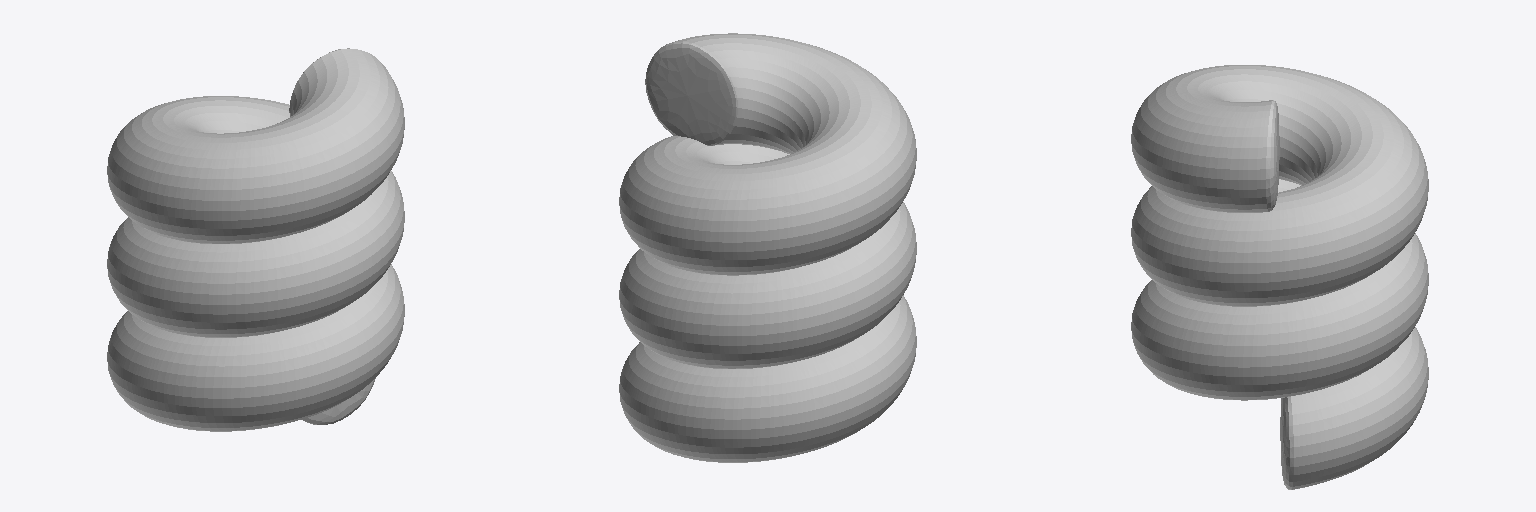
Rendered from helix_25.0.obj.
The picture shows the model from 3 angles: view 1: azimuth 30°, elevation 25°; view 2: azimuth 150°, elevation 25°; view 3: azimuth 270°, elevation 25°; orthographic projection.
Parts seen in each view (by area): view 1: helix:pHelix1; view 2: helix:pHelix1; view 3: helix:pHelix1.
Boxes of the visible parts, <box> form: helix:pHelix1: <box>107,48,404,431</box>; helix:pHelix1: <box>619,33,916,462</box>; helix:pHelix1: <box>1131,65,1428,489</box>.
Size of the model in its own units: 1.92 by 2.71 by 1.92.